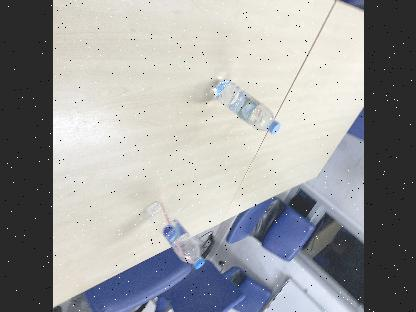Plastic Bottle: (140, 201, 206, 269), (210, 78, 280, 134)
